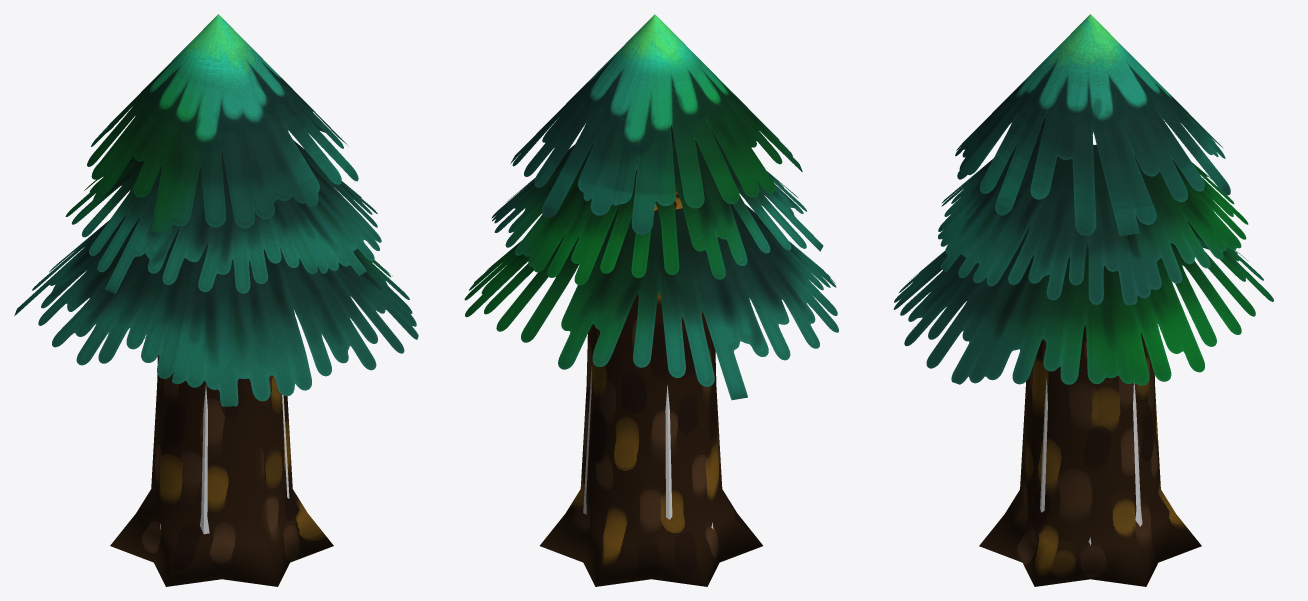
Rendered from pinheiro_jovem.glb.
3 renders of one model, left to right at view 1: azimuth 30°, elevation 25°; view 2: azimuth 150°, elevation 25°; view 3: azimuth 270°, elevation 25°, orthographic.
Parts seen in each view (by area): view 1: MidGrow.003_8, Colisao.007; view 2: MidGrow.003_8, Colisao.007; view 3: MidGrow.003_8, Colisao.007.
Boxes of the visible parts, box(x1,y1,x2,y2) form: MidGrow.003_8: box(14, 14, 418, 586); Colisao.007: box(160, 385, 289, 534); MidGrow.003_8: box(464, 14, 838, 586); Colisao.007: box(583, 366, 713, 529); MidGrow.003_8: box(893, 14, 1273, 586); Colisao.007: box(1040, 379, 1142, 545).
Size of the model in its own units: 1.72 by 2.48 by 1.72.
1 material, 1 textured.
